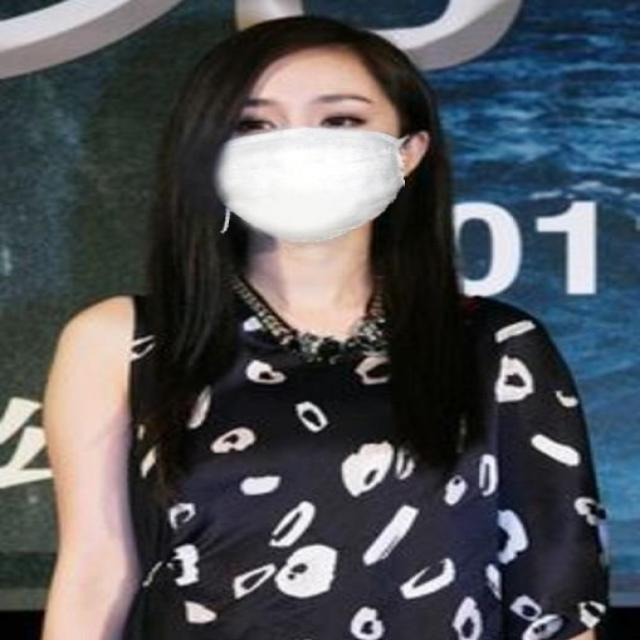mask: (216, 47, 403, 243)
